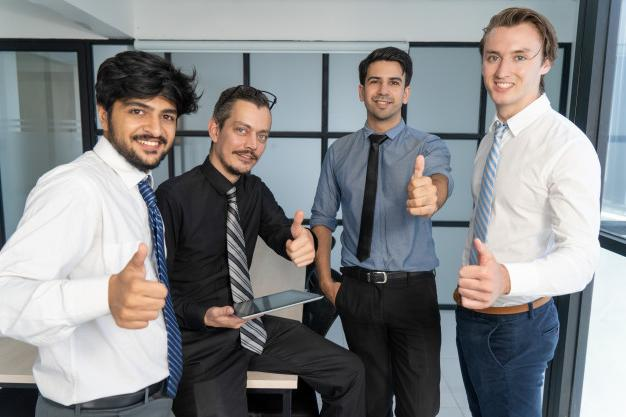thumbsup: (116, 242, 168, 329), (458, 237, 496, 310), (406, 153, 438, 215), (286, 209, 316, 268)
